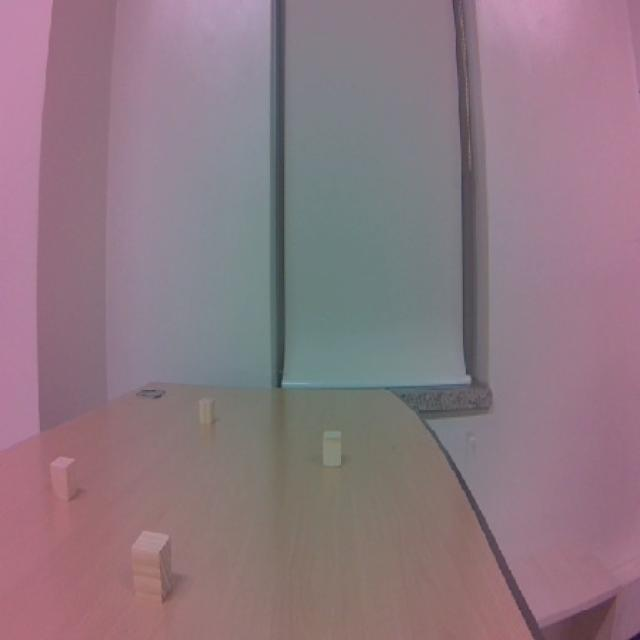obstacle: (120, 523, 191, 612), (310, 424, 354, 483), (46, 446, 84, 511), (188, 392, 226, 432)
